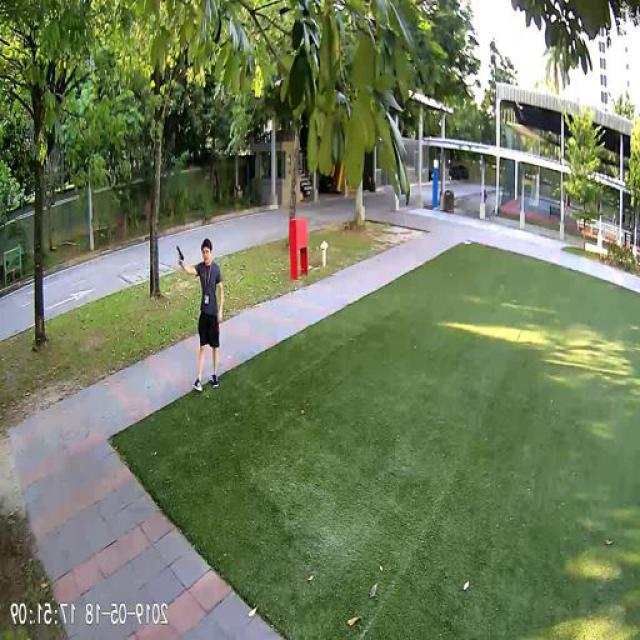Gun: (178, 242, 186, 258)
